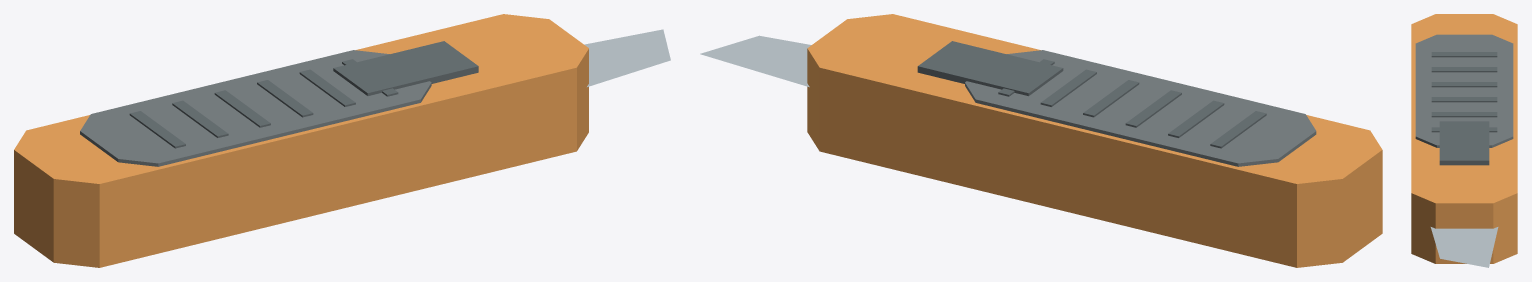
Rendered from knife.glb.
3 renders of one model, left to right at view 1: azimuth 30°, elevation 25°; view 2: azimuth 150°, elevation 25°; view 3: azimuth 270°, elevation 25°, orthographic. The views are drawn at different scales.
Visible parts, largest first — view 1: Kartongkniv; view 2: Kartongkniv; view 3: Kartongkniv.
Boxes of the visible parts, box(x1,y1,x2,y2) form: Kartongkniv: box(14, 14, 670, 267); Kartongkniv: box(700, 14, 1382, 267); Kartongkniv: box(1411, 14, 1517, 267).
Size of the model in its own units: 0.1782 by 0.0242 by 0.035.
